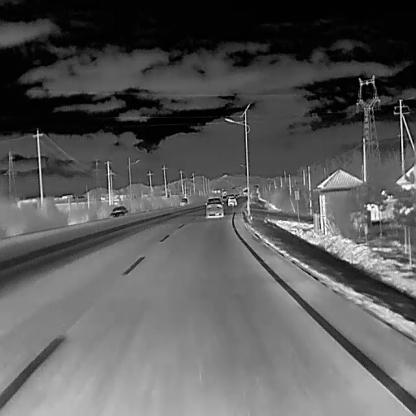car: (204, 196, 224, 218), (107, 204, 128, 218), (226, 195, 236, 206), (179, 196, 187, 206)
